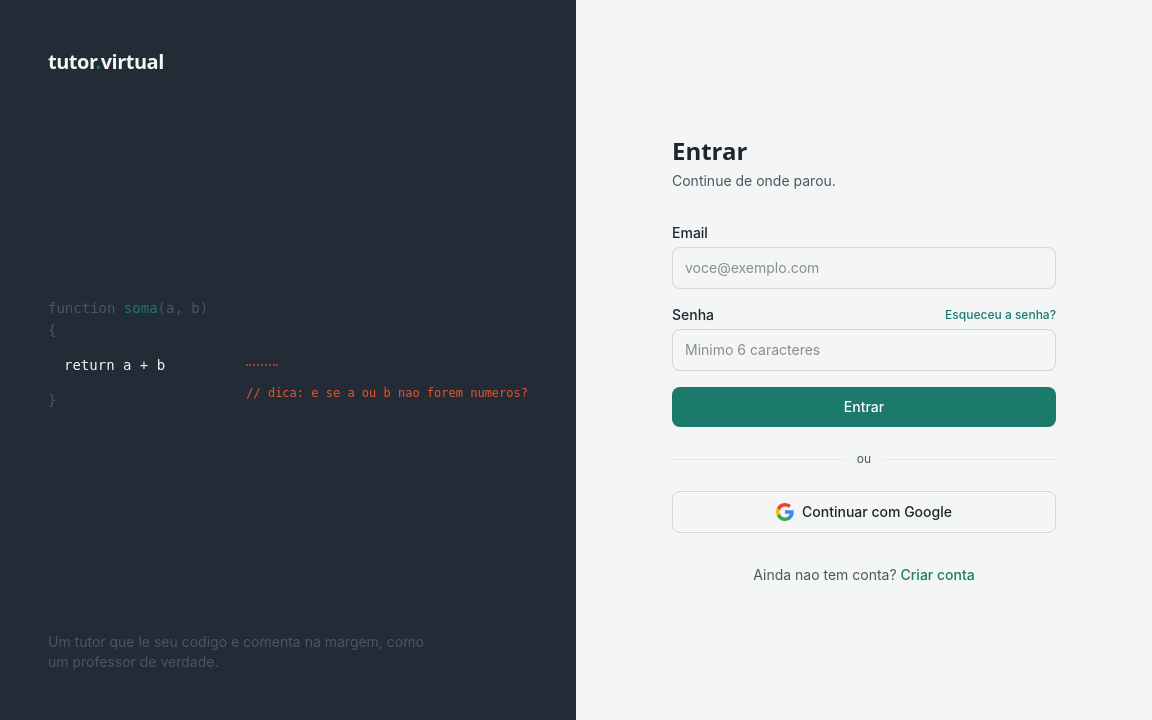
it: recuperação de senha › envia o email informado e exibe uma confirmação genérica
Type " aluno@example.com " into the field labelled "Email" at (864, 268), box [672,247,1056,289]
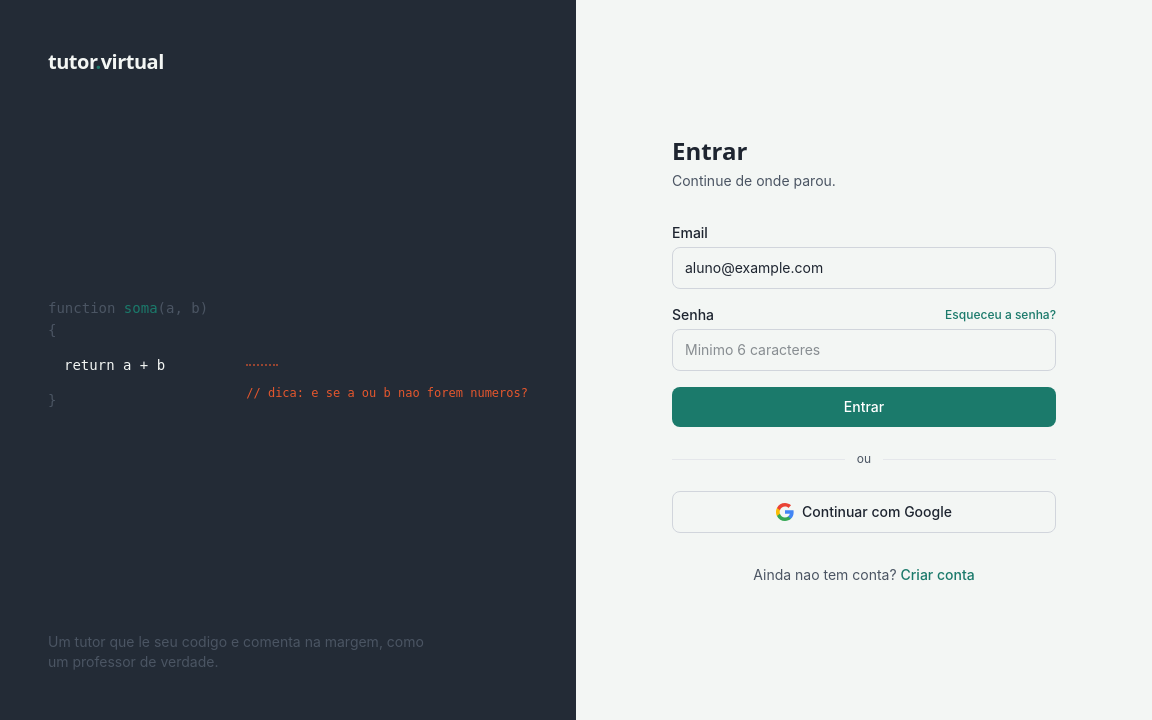
Click the button "Esqueceu a senha?" at (1001, 315), box [945,307,1056,323]
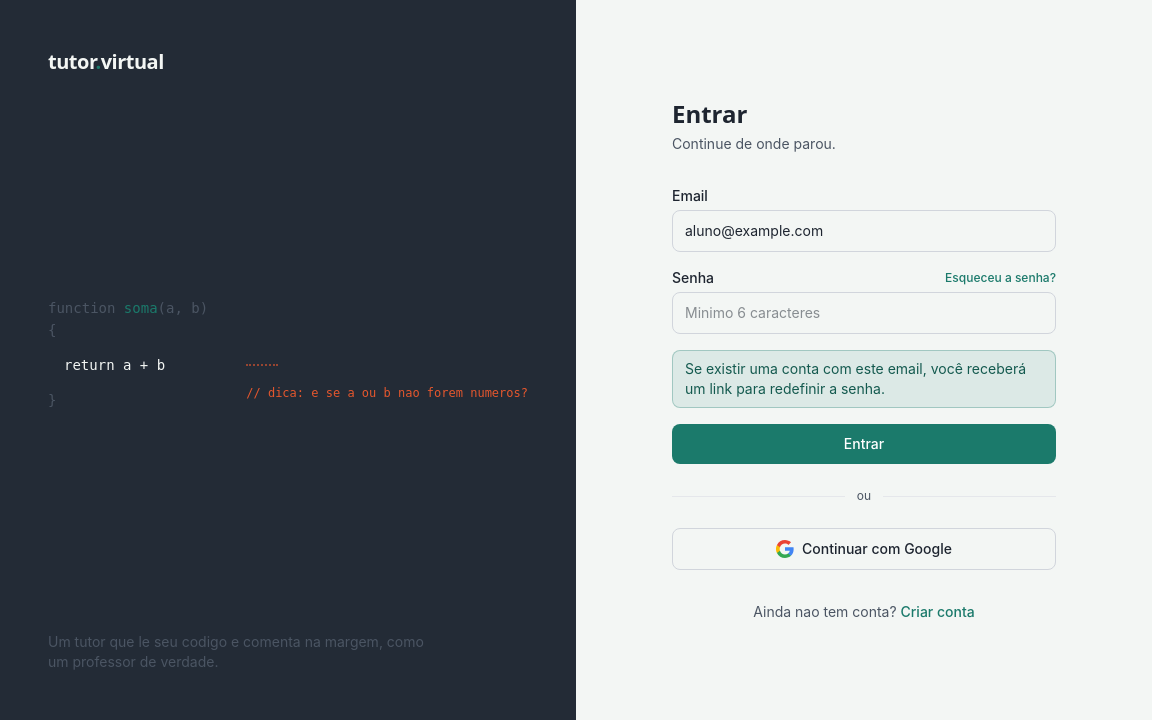
Result: the message shows "Se existir uma conta com este email" at [685,360,1026,397]
